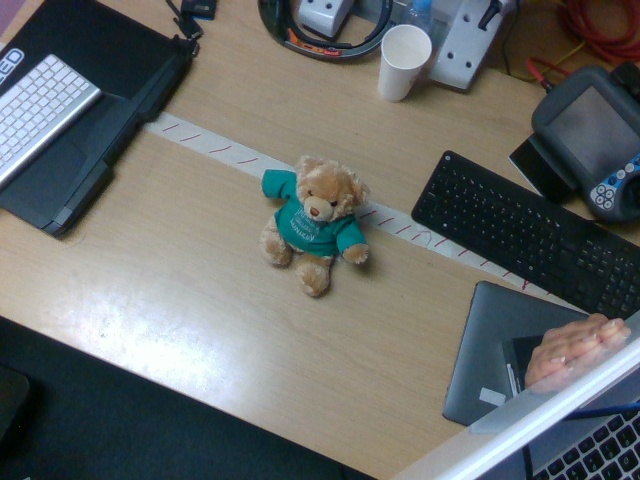teddy: (261, 155, 371, 298)
